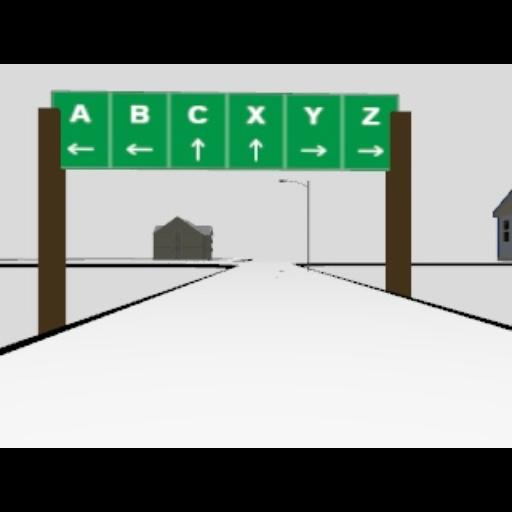A: (69, 102, 91, 124)
B: (130, 104, 148, 124)
C: (188, 104, 208, 124)
Left: (123, 142, 155, 156), (66, 142, 94, 156)
Right: (356, 144, 384, 156), (300, 144, 326, 156)
Straight: (191, 136, 205, 160), (248, 138, 262, 160)
X: (246, 104, 266, 124)
Y: (302, 106, 324, 124)
Z: (360, 106, 380, 124)
